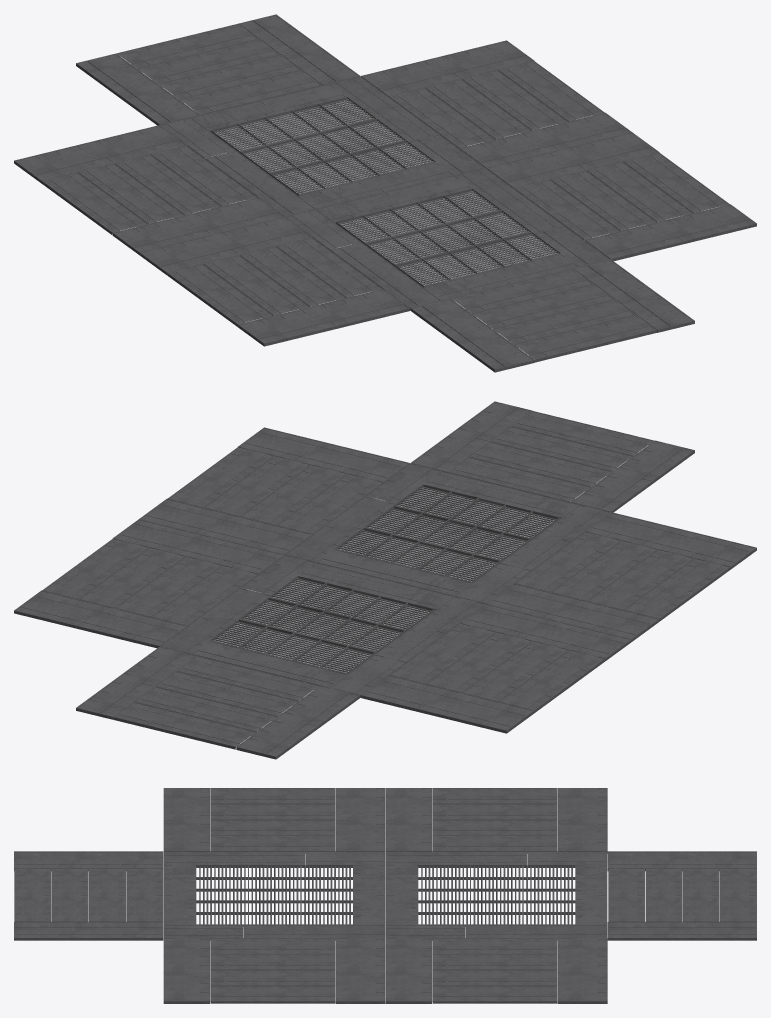
The model's file is pisillo.fbx.
3 renders of one model, top to bottom at view 1: azimuth 30°, elevation 25°; view 2: azimuth 150°, elevation 25°; view 3: azimuth 270°, elevation 25°, orthographic. The views are drawn at different scales.
Visible parts, largest first — view 1: PisoSencillo003; view 2: PisoSencillo003; view 3: PisoSencillo003.
Boxes of the visible parts, left/top/right/bottom form: PisoSencillo003: left=14, top=14, right=756, bottom=372; PisoSencillo003: left=14, top=401, right=756, bottom=759; PisoSencillo003: left=14, top=788, right=756, bottom=1003.
Size of the model in its own units: 25551 by 145 by 37614.
Materials: 1 (1 with a texture image).
